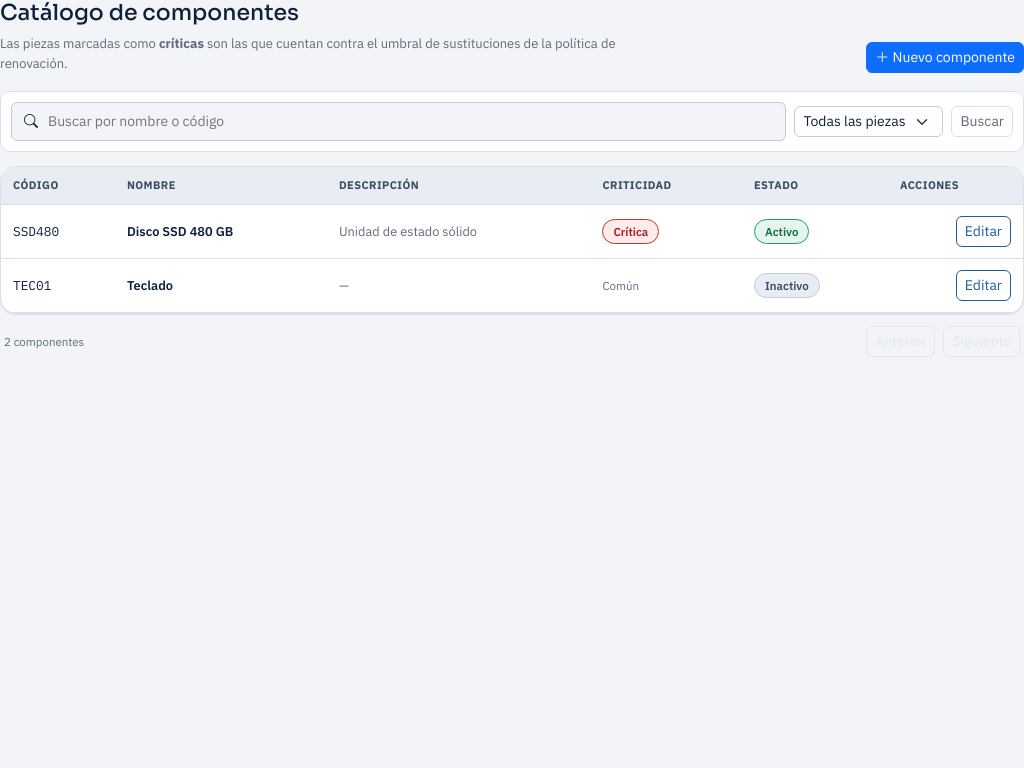
Scenario: El catálogo de componentes › cambiar la criticidad avisa de que no reescribe el pasado
expect the text "Disco SSD 480 GB" is shown: met, box [115,204,327,258]
Click the button "Editar" in the row of "SSD480".
click(983, 231)  # box [956,216,1011,247]
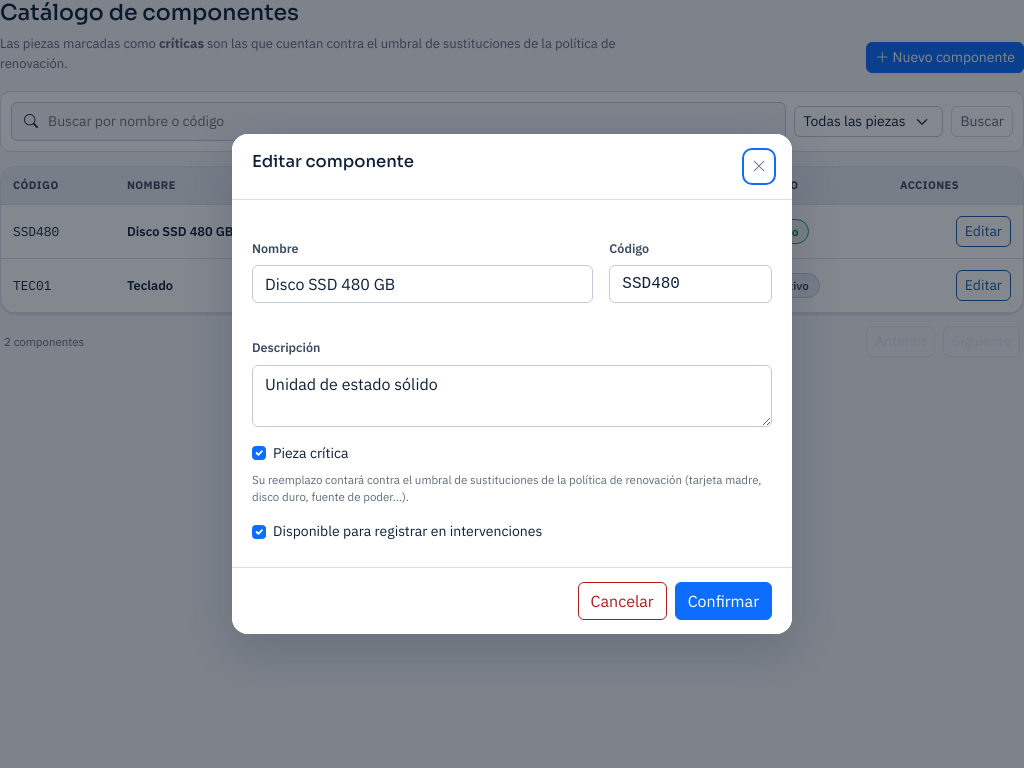
expect the text "El cambio rige de aquí en adelante" is not shown: met
expect the heading "Editar componente" is shown: met, box [252,152,414,172]
Click the checkbox labelled "Pieza crítica".
click(259, 453)  # box [252,446,266,460]
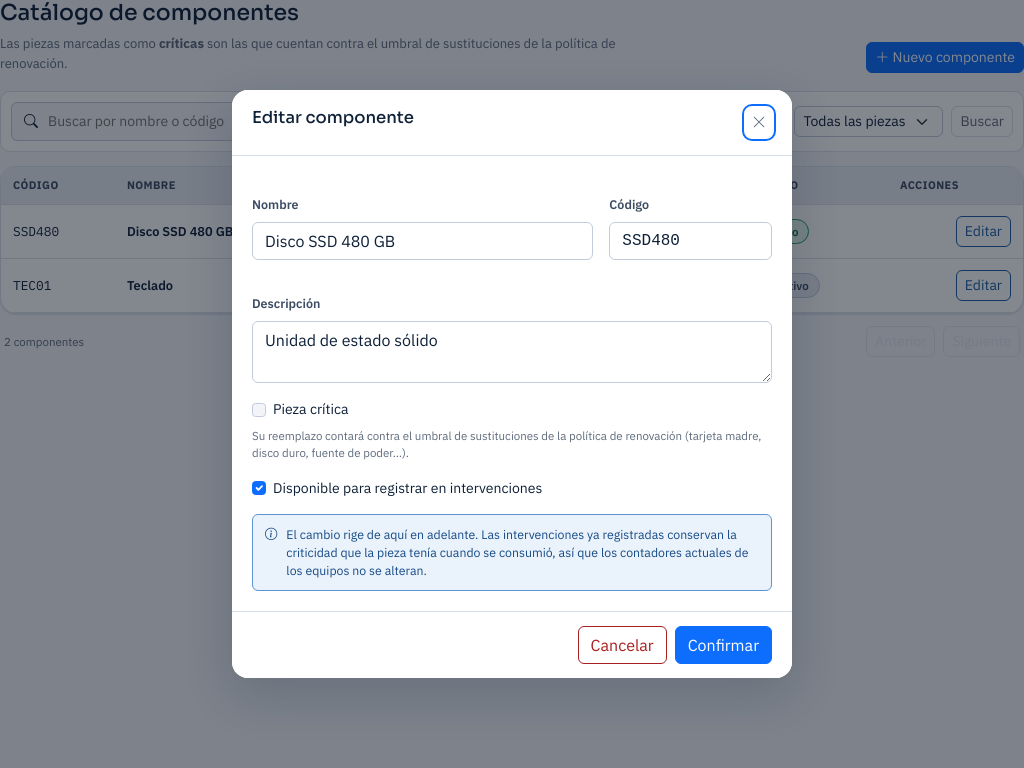
expect the text "El cambio rige de aquí en adelante" is shown: met, box [286,526,748,578]
